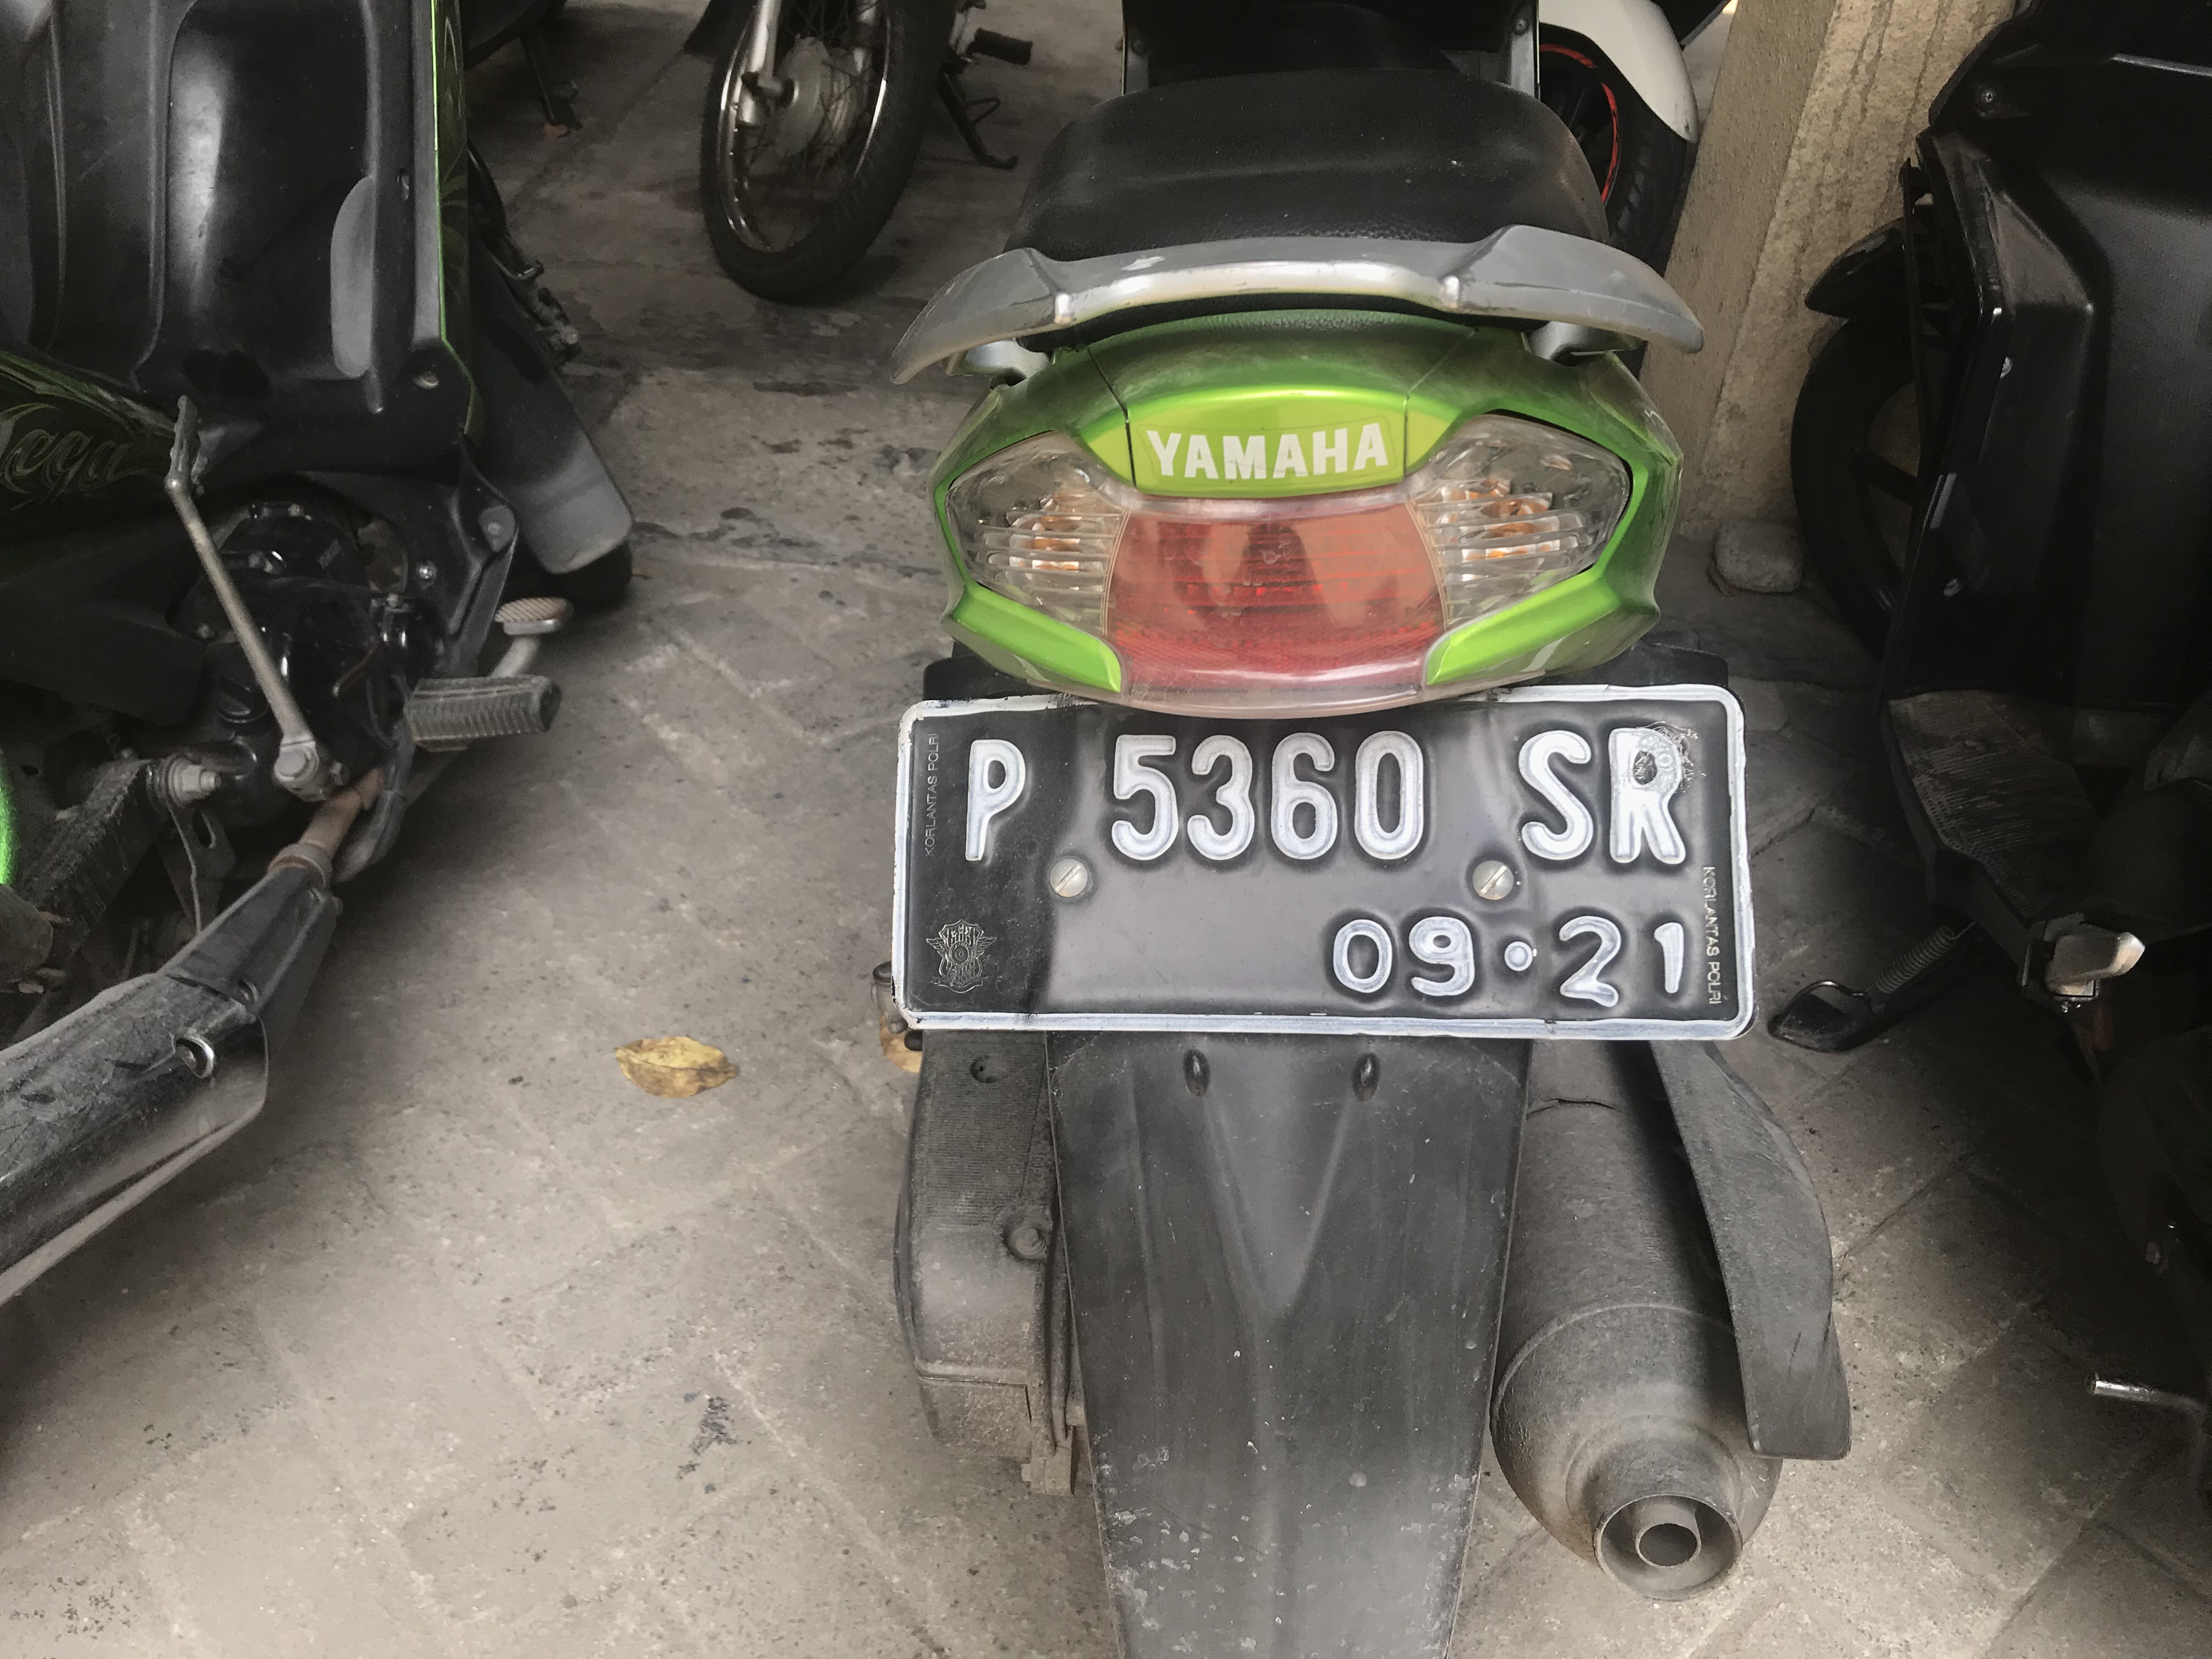plate: (892, 679, 1738, 1026)
